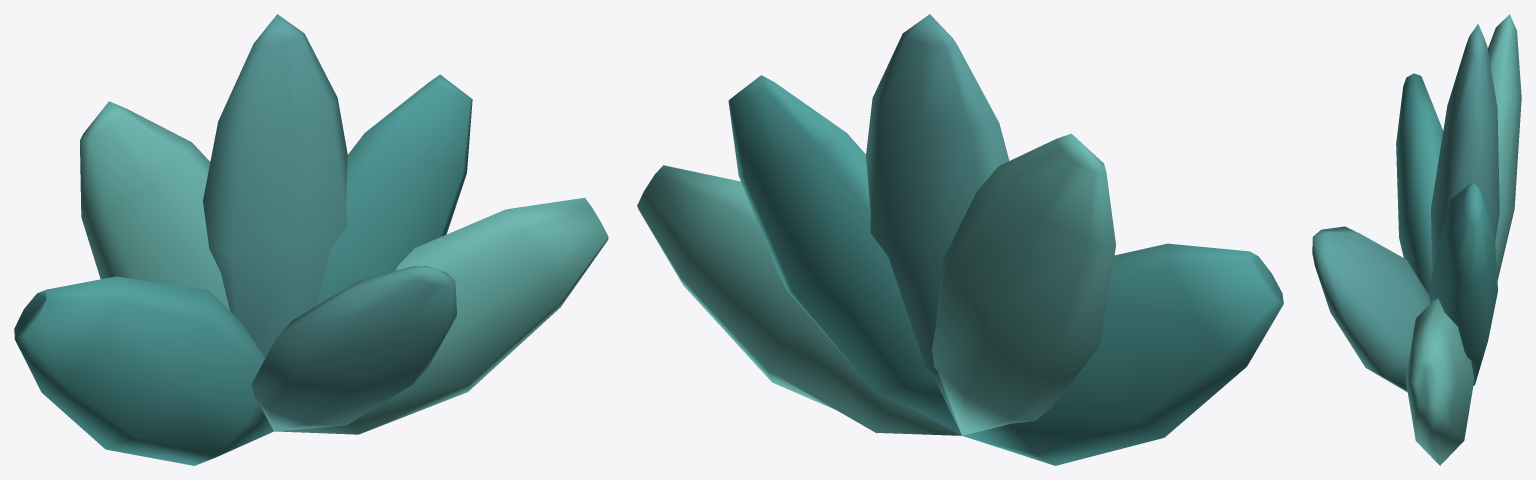
File: teal_grass_REMADE.glb
3 views of the same model, side by side, from view 1: azimuth 30°, elevation 25°; view 2: azimuth 150°, elevation 25°; view 3: azimuth 270°, elevation 25° (orthographic). The views are drawn at different scales.
Visible parts, largest first — view 1: teal_grass_REMADE_visual; view 2: teal_grass_REMADE_visual; view 3: teal_grass_REMADE_visual.
Boxes of the visible parts, x1=… form: teal_grass_REMADE_visual: x1=14, y1=14, x2=608, y2=465; teal_grass_REMADE_visual: x1=637, y1=14, x2=1283, y2=465; teal_grass_REMADE_visual: x1=1312, y1=14, x2=1521, y2=465.
Size of the model in its own units: 0.753 by 0.501 by 0.2501.
